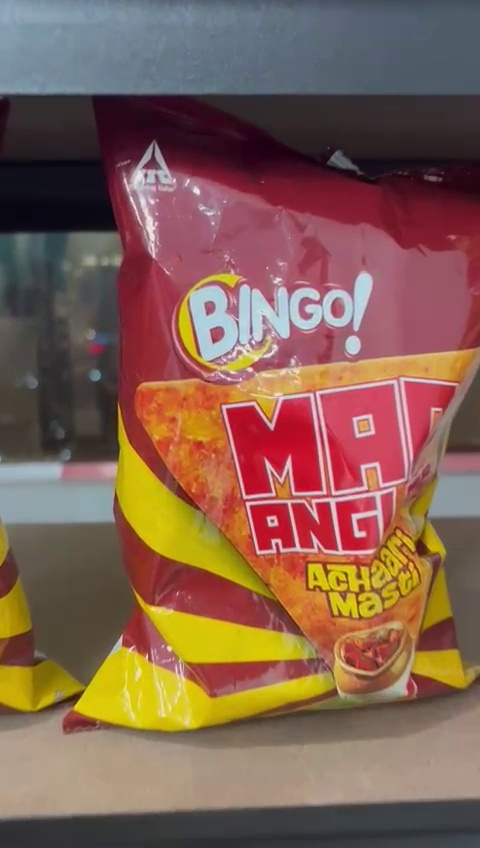Bingo Mad Angles: (104, 116, 480, 724)
